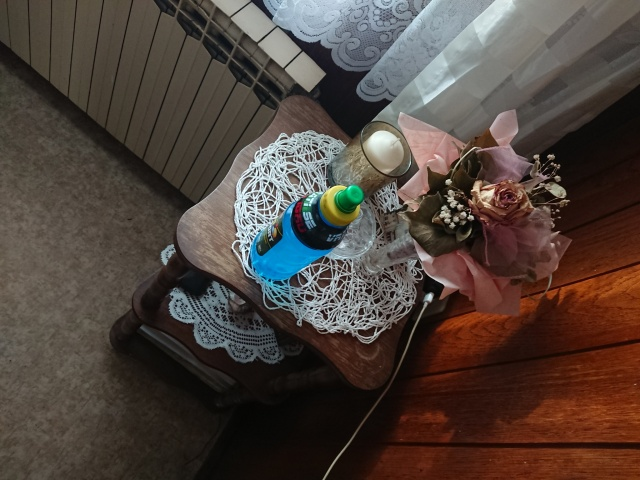Vindi Iso Sport Forest Strawberries 500mL: (247, 182, 365, 282)
